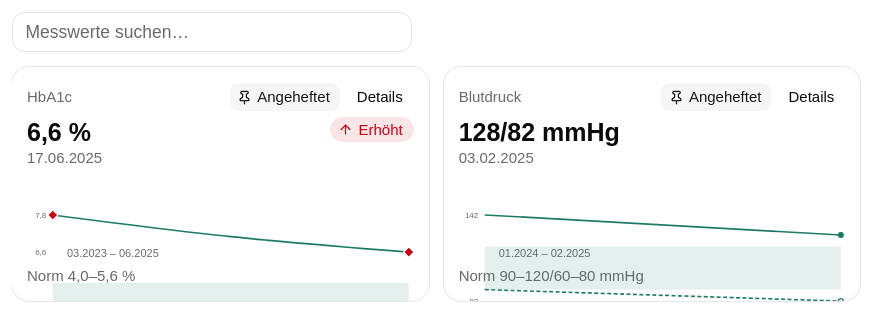
Test: PatientTrends › searches measurements by name
Type "blut" into the search field named "Messwerte durchsuchen".
click(212, 32); type("blut")  # box [12, 12, 412, 52]
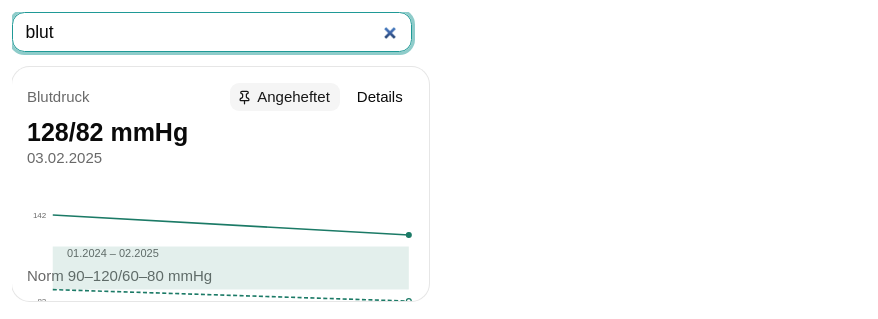
expect the heading "Blutdruck" is shown: met, box [27, 87, 90, 107]
expect the number of list items is 1: met, box [12, 67, 429, 301]
Type "xyz" into the search field.
click(212, 32); type("xyz")  # box [12, 12, 412, 52]
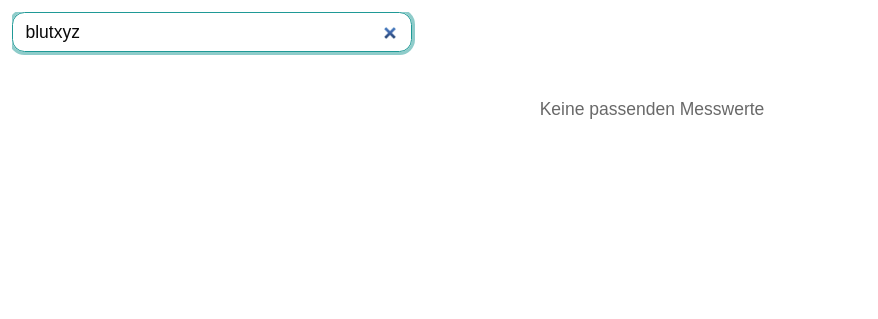
expect the text "Keine passenden Messwerte" is shown: met, box [540, 99, 764, 119]
